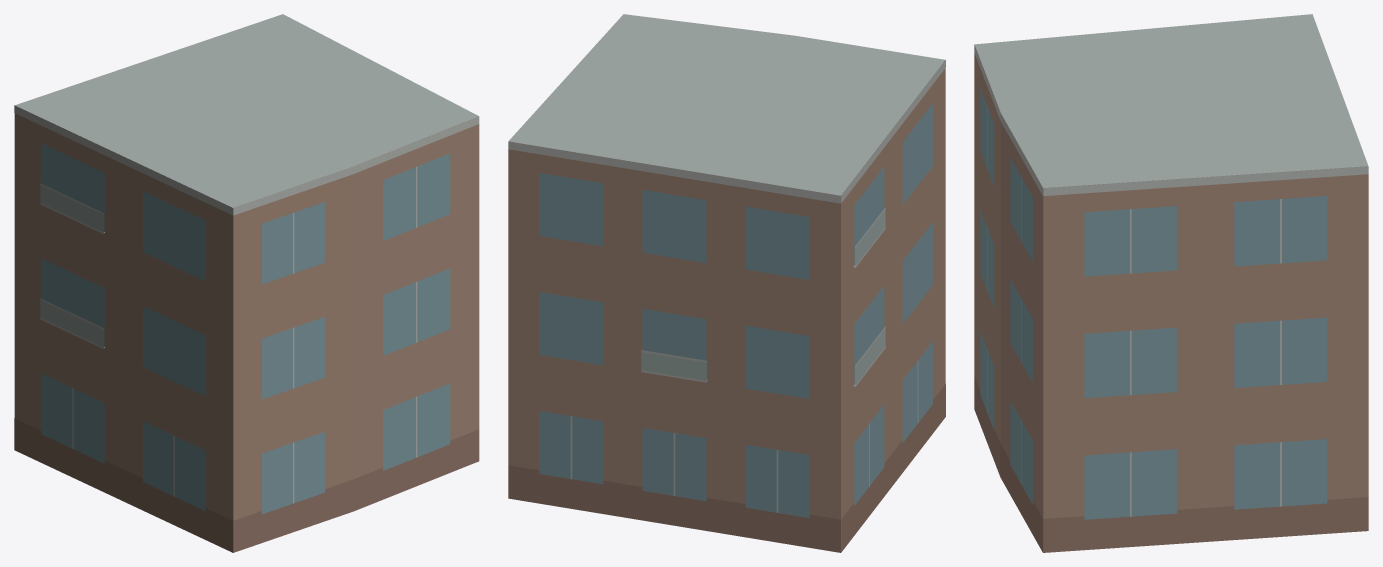
The model's file is survey-upis-32741705.glb.
3 renders of one model, left to right at view 1: azimuth 30°, elevation 25°; view 2: azimuth 150°, elevation 25°; view 3: azimuth 270°, elevation 25°, orthographic. The views are drawn at different scales.
Visible parts, largest first — view 1: survey-upis-32741705.tmp; view 2: survey-upis-32741705.tmp; view 3: survey-upis-32741705.tmp.
Part boxes in pixels (x1,y1,x2,y2): survey-upis-32741705.tmp: (14,14,479,552); survey-upis-32741705.tmp: (508,14,945,552); survey-upis-32741705.tmp: (974,14,1368,552).
Size of the model in its own units: 11.32 by 11.05 by 10.83.
